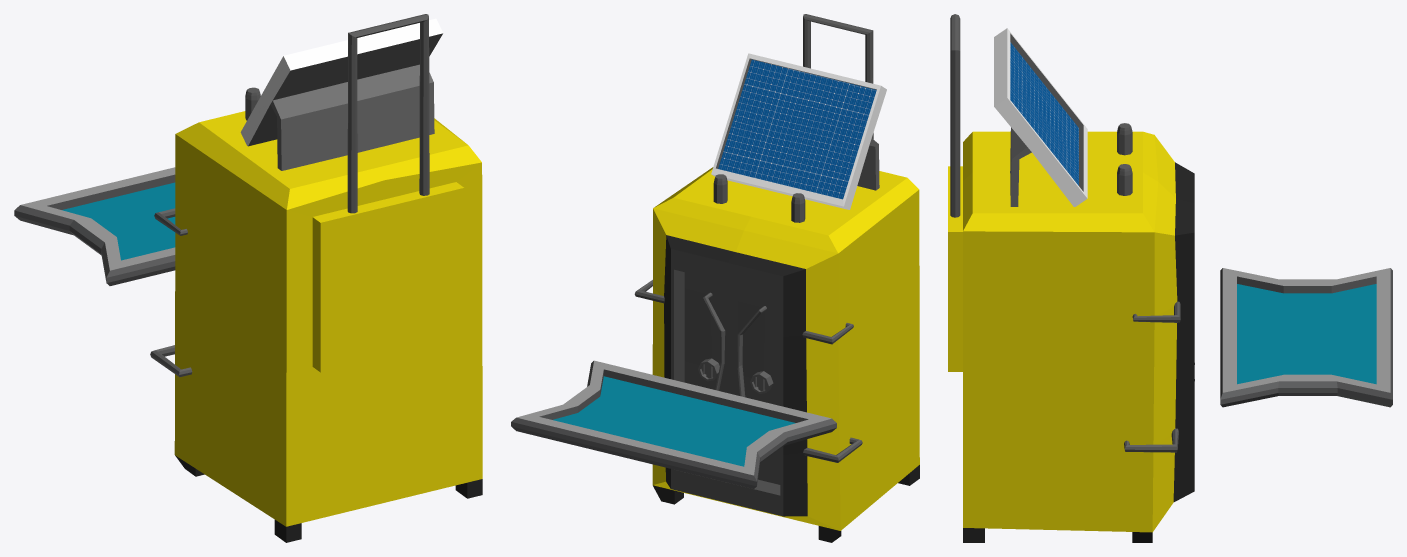
The model's file is BatteryChargerCounter 1.fbx.
3 views of the same model, side by side, from view 1: azimuth 30°, elevation 25°; view 2: azimuth 150°, elevation 25°; view 3: azimuth 270°, elevation 25° (orthographic). The views are drawn at different scales.
Parts seen in each view (by area): view 1: BatteryCharger, PanelSolar, Plataform; view 2: BatteryCharger, Plataform, PanelSolar; view 3: BatteryCharger, Plataform, PanelSolar.
Part boxes in pixels (x1,y1,x2,y2): BatteryCharger: (150,14,482,542); PanelSolar: (240,18,443,170); Plataform: (14,167,175,285); BatteryCharger: (634,14,919,542); Plataform: (511,360,836,488); PanelSolar: (711,53,886,209); BatteryCharger: (948,14,1194,542); Plataform: (1220,268,1392,407); PanelSolar: (994,28,1087,206).
Bounding box in the file's own units: 65.34 × 94.99 × 110.
Materials: 10 (1 with a texture image).
